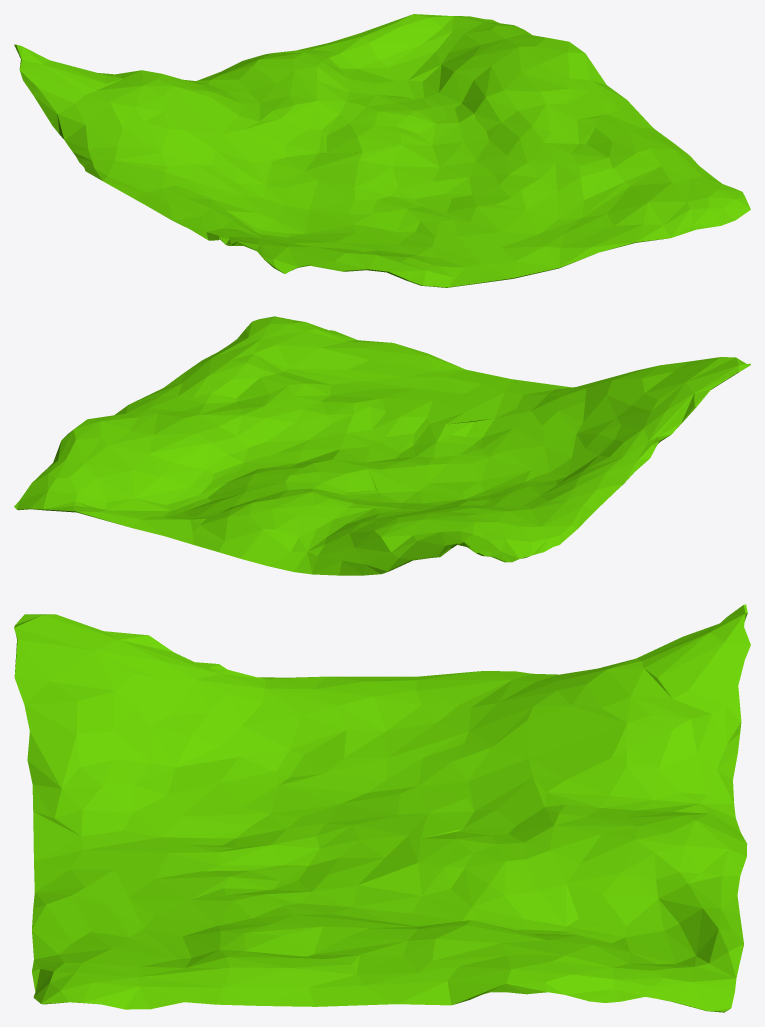
File: grass.fbx
3 views of the same model, one above another, from view 1: azimuth 30°, elevation 25°; view 2: azimuth 150°, elevation 25°; view 3: azimuth 270°, elevation 25° (orthographic). The views are drawn at different scales.
Parts seen in each view (by area): view 1: Plane; view 2: Plane; view 3: Plane.
Part boxes in pixels (x1,y1,x2,y2): Plane: (14,14,750,287); Plane: (14,316,750,575); Plane: (14,604,750,1012).
Bounding box in the file's own units: 27.05 × 4.67 × 26.52.
